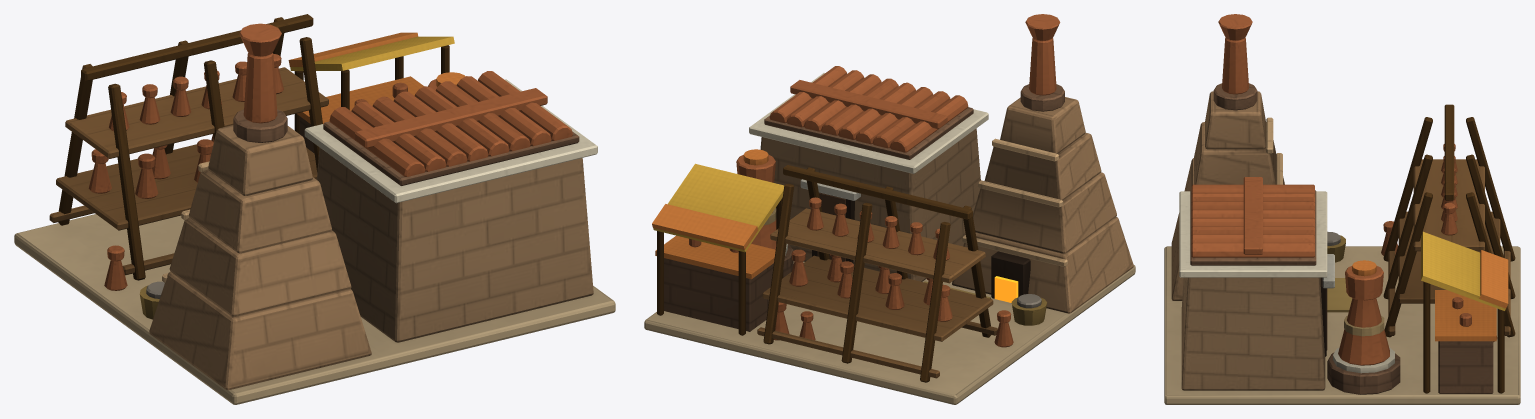
Rendered from vessel_shop.glb.
3 views of the same model, side by side, from view 1: azimuth 30°, elevation 25°; view 2: azimuth 150°, elevation 25°; view 3: azimuth 270°, elevation 25° (orthographic). The views are drawn at different scales.
Visible parts, largest first — view 1: vessel_shop_brick_sand, vessel_shop_mud_terra, vessel_shop_pottery, vessel_shop_earth_pack, vessel_shop_wood_mid, vessel_shop_wood_dark, vessel_shop_stone_pale, vessel_shop_mud_dark, vessel_shop_cloth_orange, vessel_shop_cloth_yellow; view 2: vessel_shop_brick_sand, vessel_shop_pottery, vessel_shop_earth_pack, vessel_shop_wood_mid, vessel_shop_mud_terra, vessel_shop_wood_dark, vessel_shop_mud_dark, vessel_shop_cloth_orange, vessel_shop_cloth_yellow, vessel_shop_stone_pale, vessel_shop_mud_tan, vessel_shop_door_dark (+3 smaller); view 3: vessel_shop_mud_terra, vessel_shop_pottery, vessel_shop_earth_pack, vessel_shop_wood_dark, vessel_shop_mud_dark, vessel_shop_brick_sand, vessel_shop_wood_mid, vessel_shop_cloth_orange, vessel_shop_stone_pale, vessel_shop_cloth_yellow, vessel_shop_thatch_mat, vessel_shop_mud_tan (+3 smaller).
Part boxes in pixels (x1=…): vessel_shop_brick_sand: x1=149, y1=125, x2=371, y2=390; vessel_shop_mud_terra: x1=317, y1=147, x2=593, y2=342; vessel_shop_pottery: x1=88, y1=23, x2=572, y2=290; vessel_shop_earth_pack: x1=14, y1=214, x2=615, y2=404; vessel_shop_wood_mid: x1=49, y1=67, x2=328, y2=275; vessel_shop_wood_dark: x1=58, y1=14, x2=449, y2=280; vessel_shop_stone_pale: x1=304, y1=79, x2=597, y2=203; vessel_shop_mud_dark: x1=233, y1=109, x2=579, y2=185; vessel_shop_cloth_orange: x1=288, y1=32, x2=465, y2=123; vessel_shop_cloth_yellow: x1=290, y1=36, x2=454, y2=70; vessel_shop_brick_sand: x1=952, y1=97, x2=1133, y2=313; vessel_shop_pottery: x1=689, y1=14, x2=1060, y2=347; vessel_shop_earth_pack: x1=644, y1=261, x2=1135, y2=404; vessel_shop_wood_mid: x1=757, y1=208, x2=997, y2=378; vessel_shop_mud_terra: x1=760, y1=128, x2=980, y2=281; vessel_shop_wood_dark: x1=657, y1=165, x2=990, y2=382; vessel_shop_mud_dark: x1=664, y1=84, x2=1064, y2=331; vessel_shop_cloth_orange: x1=652, y1=149, x2=775, y2=279; vessel_shop_cloth_yellow: x1=653, y1=163, x2=784, y2=252; vessel_shop_stone_pale: x1=749, y1=73, x2=988, y2=255; vessel_shop_mud_tan: x1=962, y1=138, x2=1067, y2=267; vessel_shop_door_dark: x1=812, y1=192, x2=1030, y2=298; vessel_shop_mud_terra: x1=1181, y1=277, x2=1325, y2=390; vessel_shop_pottery: x1=1191, y1=14, x2=1497, y2=365; vessel_shop_earth_pack: x1=1164, y1=246, x2=1520, y2=404; vessel_shop_wood_dark: x1=1383, y1=104, x2=1515, y2=393; vessel_shop_mud_dark: x1=1190, y1=83, x2=1493, y2=394; vessel_shop_brick_sand: x1=1171, y1=91, x2=1284, y2=300; vessel_shop_wood_mid: x1=1388, y1=159, x2=1510, y2=335; vessel_shop_cloth_orange: x1=1352, y1=250, x2=1508, y2=341; vessel_shop_stone_pale: x1=1179, y1=191, x2=1394, y2=373; vessel_shop_cloth_yellow: x1=1421, y1=231, x2=1505, y2=310; vessel_shop_thatch_mat: x1=1327, y1=278, x2=1352, y2=312; vessel_shop_mud_tan: x1=1266, y1=117, x2=1282, y2=184.
Size of the model in its own units: 2.62 by 2.11 by 2.6.
Materials: 20 (19 with a texture image).
